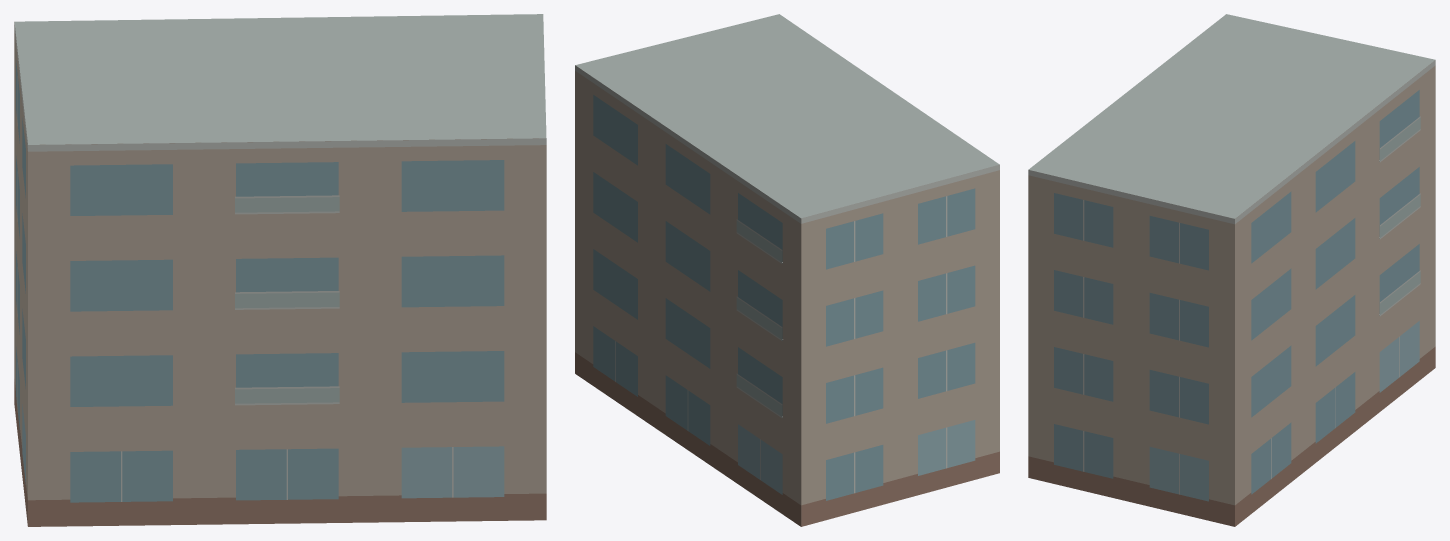
File: survey-upis-32945663.glb
The picture shows the model from 3 angles, left to right: view 1: azimuth 30°, elevation 25°; view 2: azimuth 150°, elevation 25°; view 3: azimuth 270°, elevation 25°; orthographic projection. The views are drawn at different scales.
Parts seen in each view (by area): view 1: survey-upis-32945663.tmp; view 2: survey-upis-32945663.tmp; view 3: survey-upis-32945663.tmp.
Boxes of the visible parts, left/top/right/bottom form: survey-upis-32945663.tmp: left=14, top=14, right=546, bottom=526; survey-upis-32945663.tmp: left=575, top=14, right=999, bottom=526; survey-upis-32945663.tmp: left=1028, top=14, right=1435, bottom=526.
Bounding box in the file's own units: 19.55 × 13.7 × 16.43.
